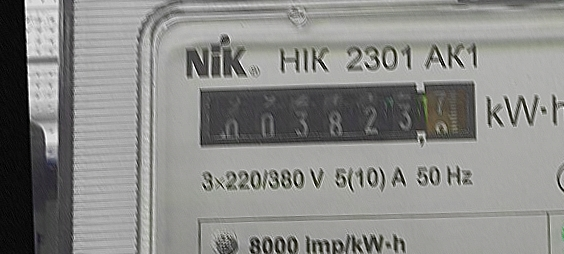0: (253, 109, 274, 137), (220, 114, 238, 138)
2: (358, 103, 378, 135)
3: (393, 100, 412, 131), (289, 106, 308, 136)
7: (430, 89, 447, 117)
8: (323, 107, 341, 136)
9: (221, 93, 239, 113)
screen: (188, 73, 479, 155)
